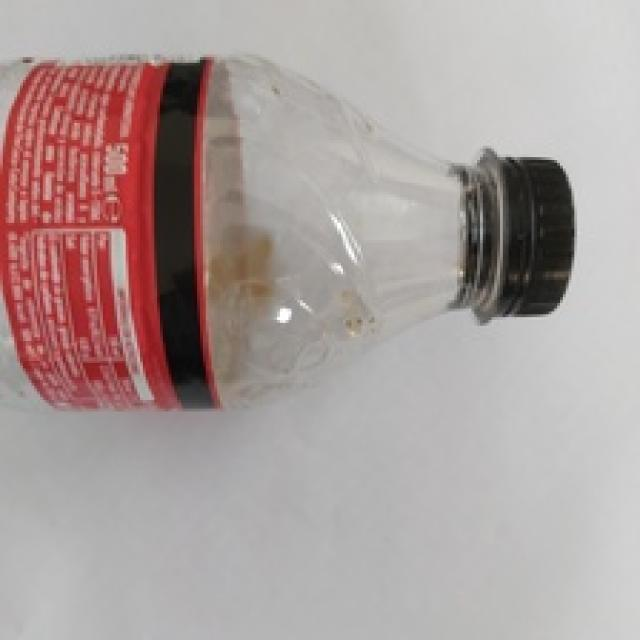good: (8, 42, 600, 428)
